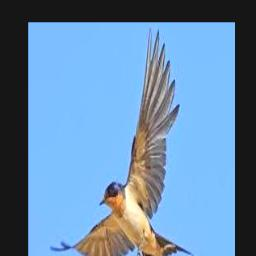Swallow: (51, 28, 195, 256)
